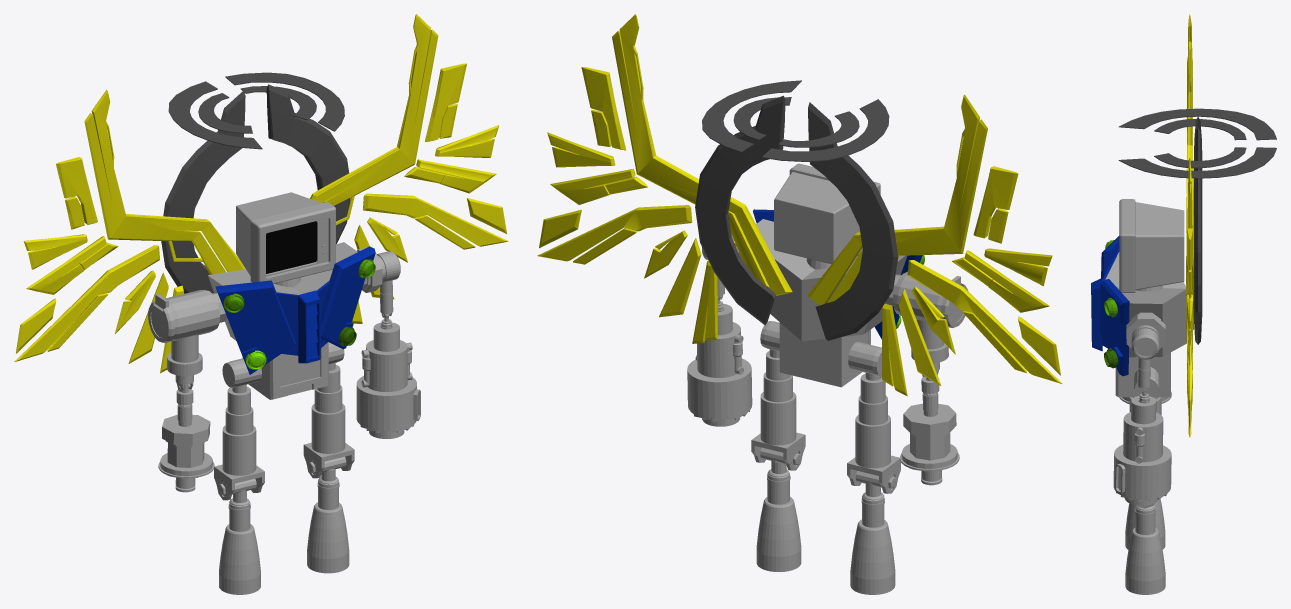
Rendered from Boss Model.fbx.
3 renders of one model, left to right at view 1: azimuth 30°, elevation 25°; view 2: azimuth 150°, elevation 25°; view 3: azimuth 270°, elevation 25°, orthographic. The views are drawn at different scales.
Visible parts, largest first — view 1: wing_right, wing_left, halo, Head, right_plate, left_plate, Group39404, Group23568, Group35954, Group50545, Group20653, Group693 (+15 smaller); view 2: halo, wing_left, wing_right, Head, SKREV, Chest, Group35954, Group39404, Group23568, Group693, Group10836, Group60536 (+12 smaller); view 3: halo, Head, Group39404, Group35954, left_plate, Robot, wing_left, Group35849, Chest, SKREV, wing_right, Group18 (+10 smaller).
Boxes of the visible parts, x1=… form: wing_right: x1=14, y1=89, x2=245, y2=373; wing_left: x1=310, y1=14, x2=508, y2=323; halo: x1=161, y1=72, x2=350, y2=293; Head: x1=236, y1=192, x2=335, y2=283; right_plate: x1=215, y1=280, x2=295, y2=374; left_plate: x1=320, y1=246, x2=375, y2=349; Group39404: x1=307, y1=502, x2=349, y2=573; Group23568: x1=219, y1=524, x2=260, y2=594; Group35954: x1=356, y1=376, x2=416, y2=431; Group50545: x1=267, y1=342, x2=328, y2=399; Group20653: x1=166, y1=290, x2=220, y2=341; Group693: x1=162, y1=414, x2=210, y2=467; halo: x1=695, y1=80, x2=898, y2=340; wing_left: x1=537, y1=14, x2=792, y2=343; wing_right: x1=807, y1=94, x2=1062, y2=396; Head: x1=774, y1=163, x2=880, y2=264; SKREV: x1=779, y1=322, x2=868, y2=387; Chest: x1=756, y1=219, x2=907, y2=340; Group35954: x1=687, y1=358, x2=752, y2=419; Group39404: x1=756, y1=496, x2=801, y2=571; Group23568: x1=850, y1=519, x2=895, y2=594; Group693: x1=903, y1=403, x2=956, y2=460; Group10836: x1=760, y1=392, x2=796, y2=445; Group60536: x1=855, y1=415, x2=890, y2=468; halo: x1=1118, y1=108, x2=1276, y2=344; Head: x1=1119, y1=199, x2=1184, y2=292; Group39404: x1=1125, y1=527, x2=1165, y2=594; Group35954: x1=1113, y1=444, x2=1171, y2=499; left_plate: x1=1100, y1=279, x2=1129, y2=376; Robot: x1=1105, y1=252, x2=1185, y2=356; wing_left: x1=1186, y1=158, x2=1193, y2=437; Group35849: x1=1123, y1=412, x2=1163, y2=462; Chest: x1=1118, y1=288, x2=1186, y2=357; SKREV: x1=1122, y1=352, x2=1170, y2=397; wing_right: x1=1186, y1=14, x2=1193, y2=283; Group18: x1=1131, y1=325, x2=1159, y2=359.
Size of the model in its own units: 11184 by 10950 by 3840.
